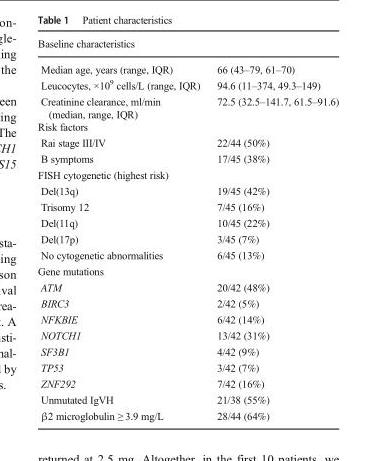table: (37, 37, 338, 421)
table column: (37, 37, 207, 421), (207, 37, 338, 421)
table column header: (37, 37, 338, 76)
table projected row header: (37, 166, 338, 182), (37, 262, 338, 278), (37, 119, 338, 134)
table row: (37, 93, 338, 119), (37, 55, 338, 76), (37, 37, 338, 55), (37, 76, 338, 93), (37, 374, 338, 391), (37, 134, 338, 150), (37, 150, 338, 166), (37, 166, 338, 182), (37, 182, 338, 198), (37, 198, 338, 214), (37, 214, 338, 230), (37, 230, 338, 246), (37, 246, 338, 262), (37, 262, 338, 278), (37, 278, 338, 294), (37, 294, 338, 310), (37, 310, 338, 326), (37, 326, 338, 342), (37, 342, 338, 358), (37, 358, 338, 374), (37, 119, 338, 134), (37, 391, 338, 406), (37, 406, 338, 421)
table spanning cell: (37, 37, 338, 55)
